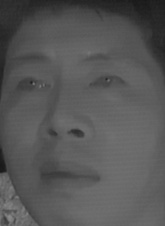eye: (86, 71, 131, 92), (13, 74, 51, 96)
mouth: (38, 155, 99, 194)
